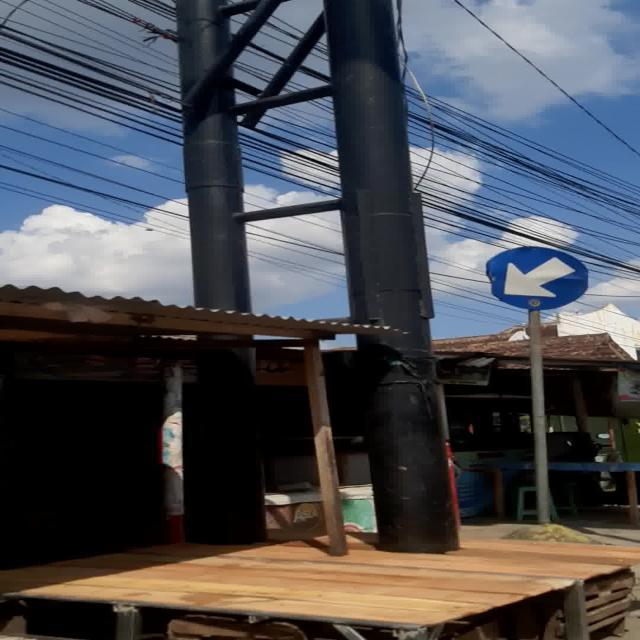Lajur Kiri: (486, 246, 588, 310)
